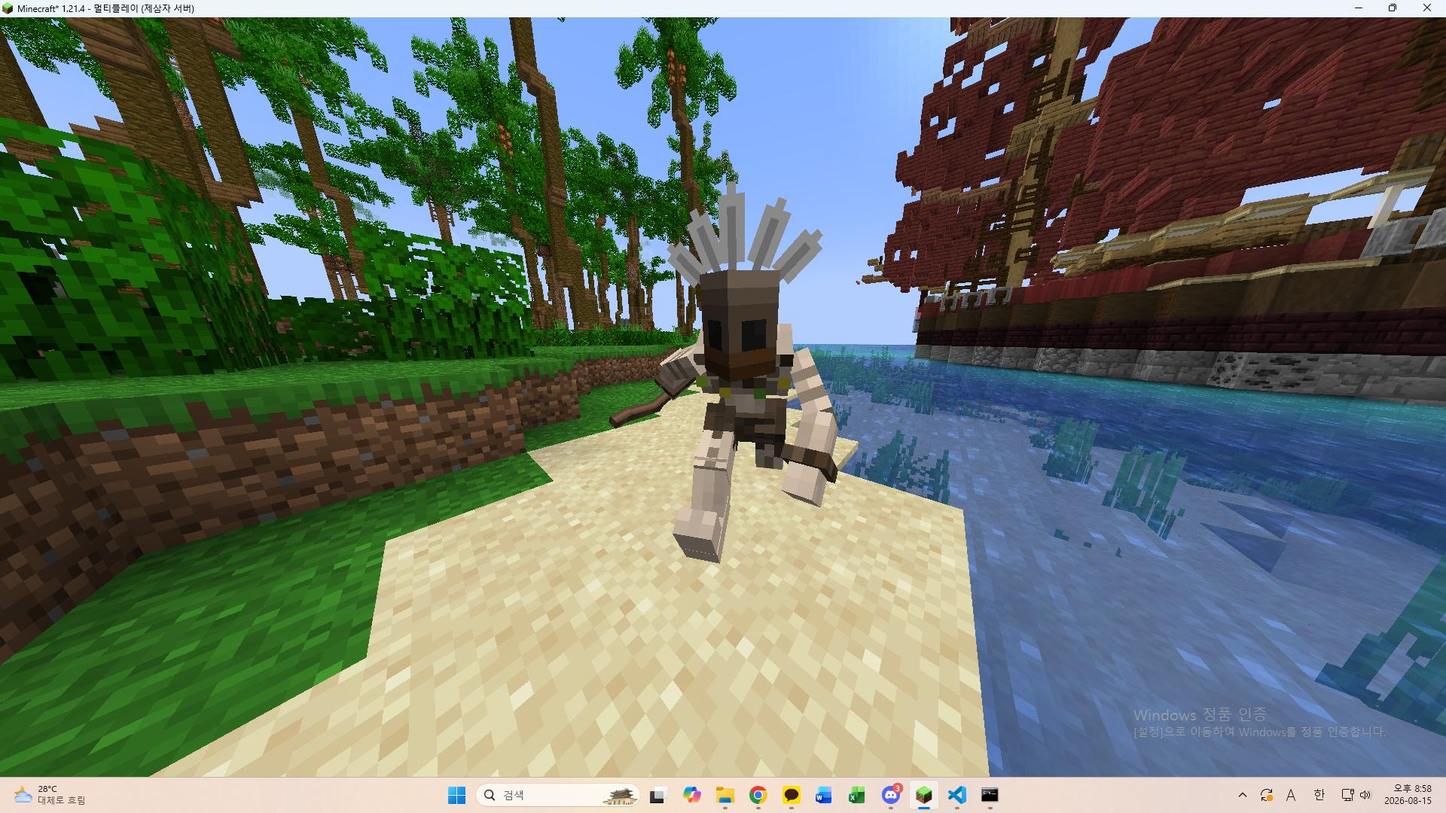bow_indian: (597, 197, 899, 589)
